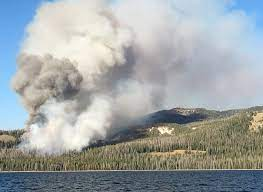smoke: (39, 1, 261, 103)
